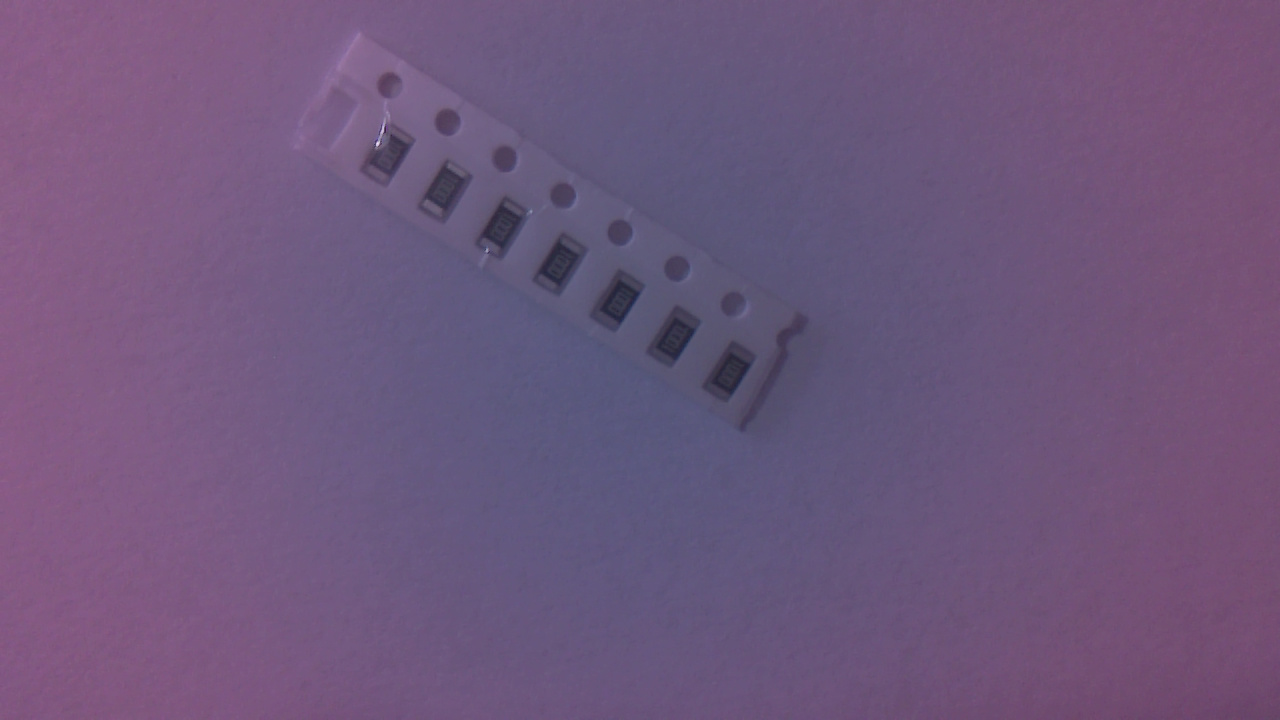Resistor: (595, 274, 652, 341), (535, 235, 593, 300), (365, 129, 421, 195), (649, 310, 707, 373), (479, 202, 531, 270), (421, 166, 476, 230), (707, 346, 762, 407)
